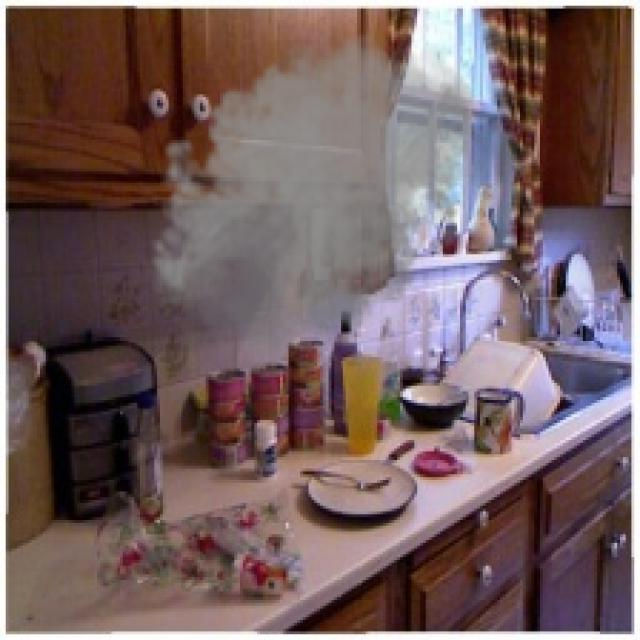smoke: (140, 23, 483, 377)
